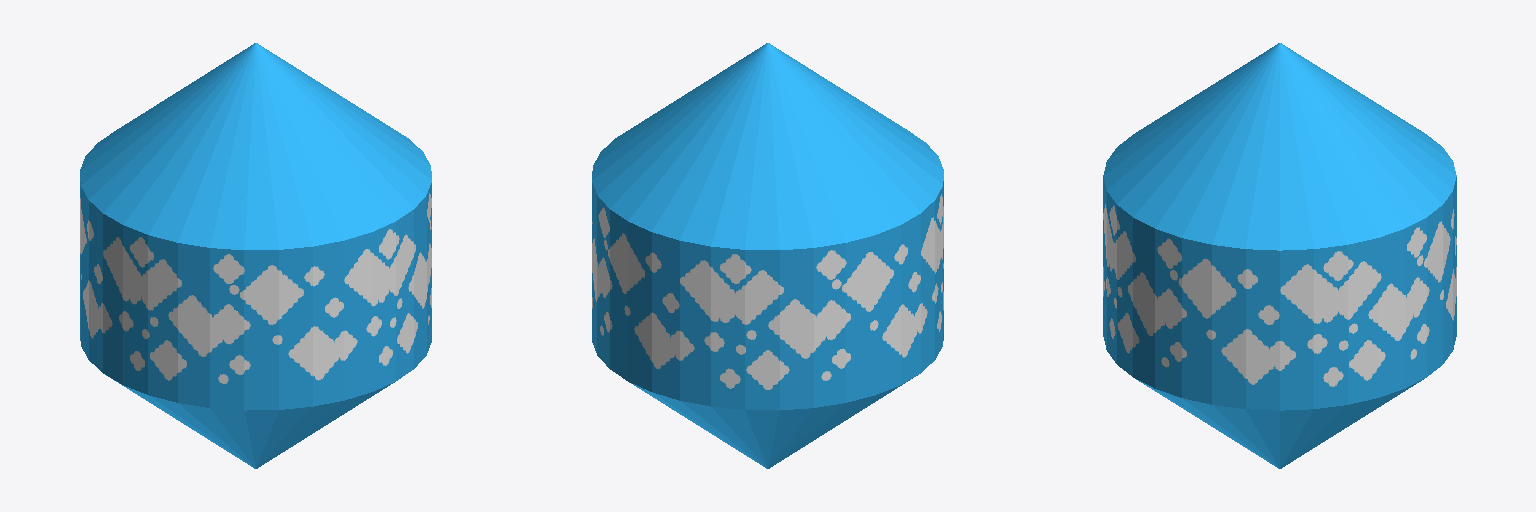
3 renders of one model, left to right at view 1: azimuth 30°, elevation 25°; view 2: azimuth 150°, elevation 25°; view 3: azimuth 270°, elevation 25°, orthographic.
Size of the model in its own units: 24000 by 32000 by 24000.
1 materials, 1 textured.